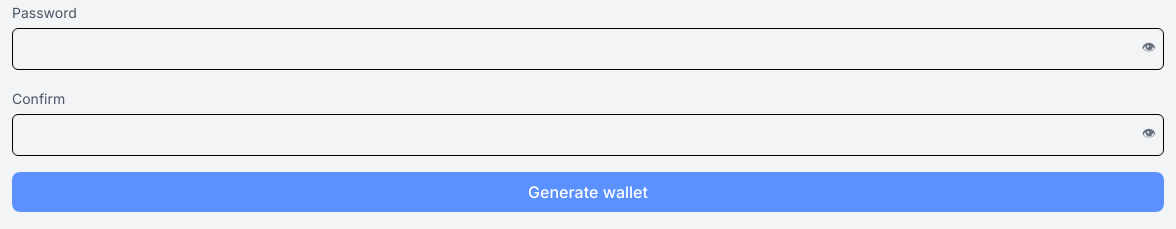
Test case: CreateForm › generates and adds wallet on valid password
The width and height of the screenshot is (1176, 229).
Type "StrongPass123!" into the password field labelled "Password 👁" at coordinates (588, 49), box left=12, top=28, right=1164, bottom=70
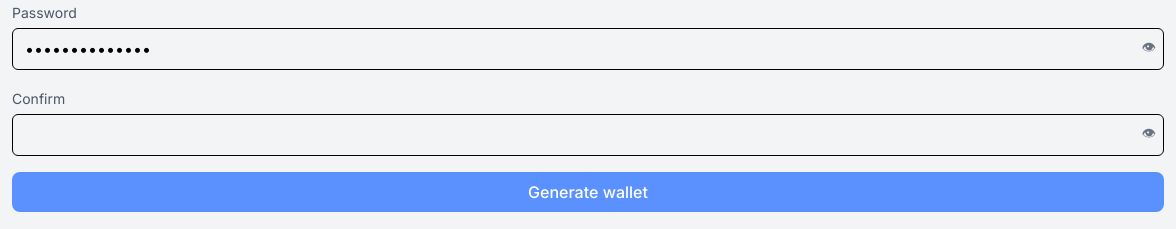
Type "StrongPass123!" into the password field labelled "Confirm 👁" at coordinates (588, 135), box left=12, top=114, right=1164, bottom=156
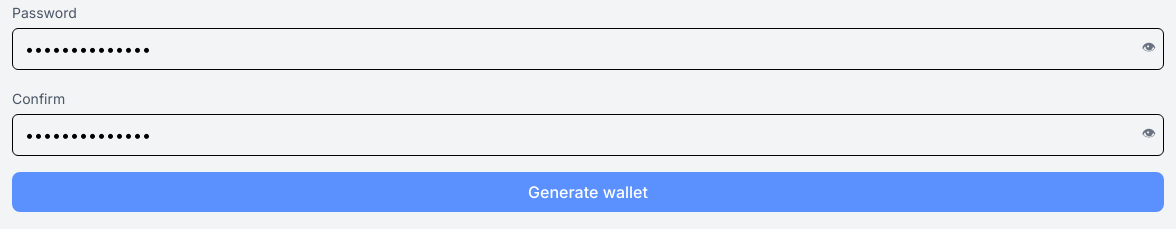
Click the button "Generate wallet" at coordinates (588, 192), box left=12, top=172, right=1164, bottom=212
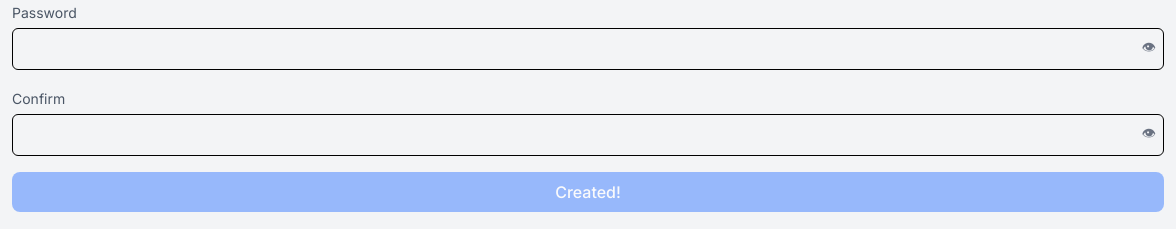
Expected: the button "Created!" is shown, left=12, top=172, right=1164, bottom=212
